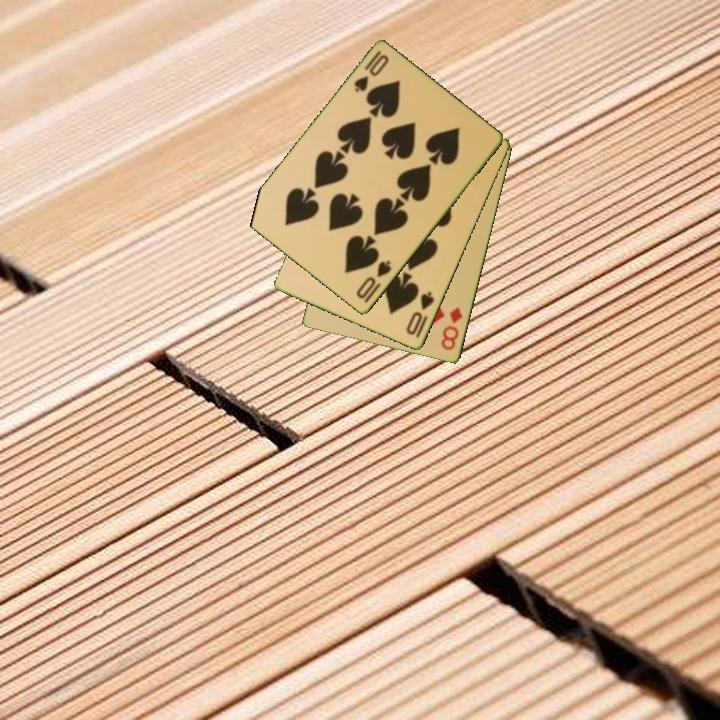10s: (351, 47, 392, 96), (353, 257, 394, 302), (403, 288, 437, 341)
8d: (438, 303, 465, 353)
